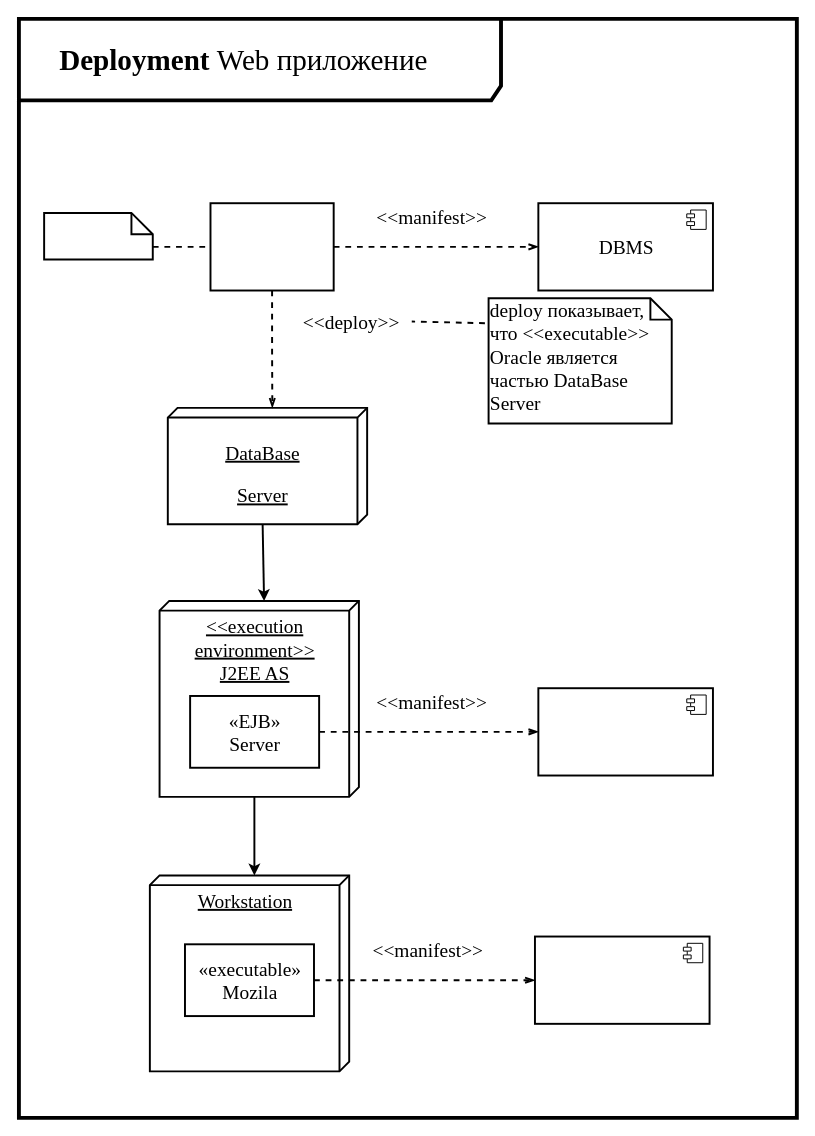
Some shapes in this 815 by 1136 pixel diagram are drawn without their labels. Here are the shapes that lost their labels. From the top down, the centre of each, then its label:
pixel 98 235: Артефакт
pixel 271 246: «executable» Oracle
pixel 625 731: Application Service
pixel 622 979: WebBrowser
